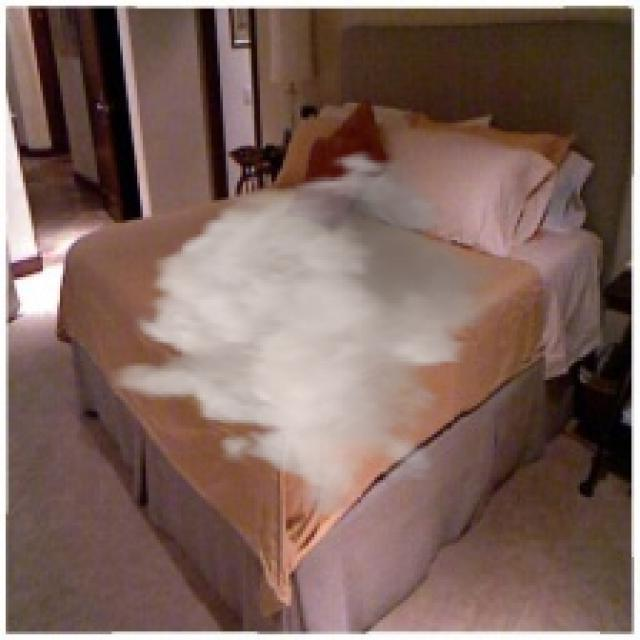Smoke: (106, 148, 508, 520)
